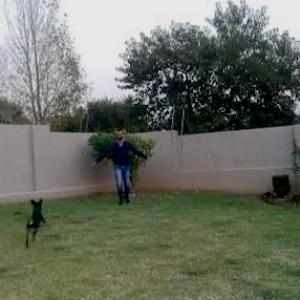land: (82, 118, 151, 212)
